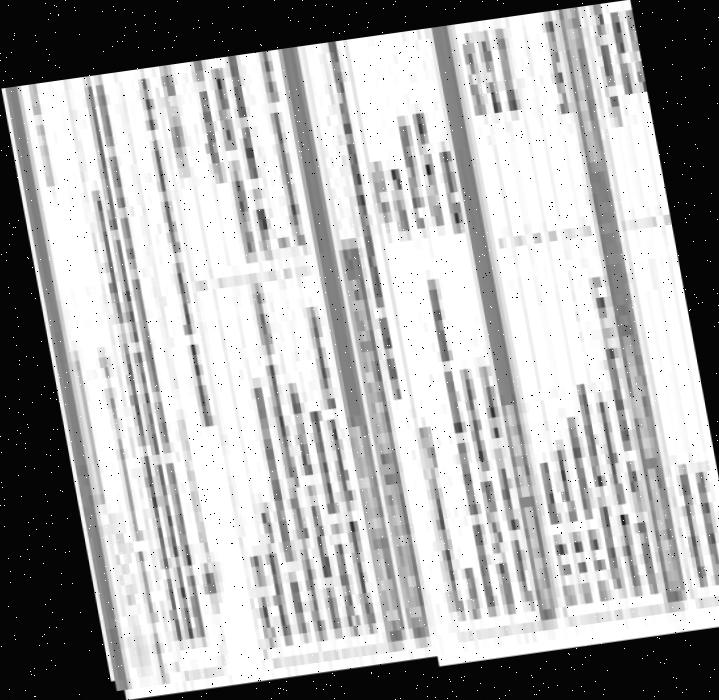electricity-bill: (1, 0, 719, 700)
